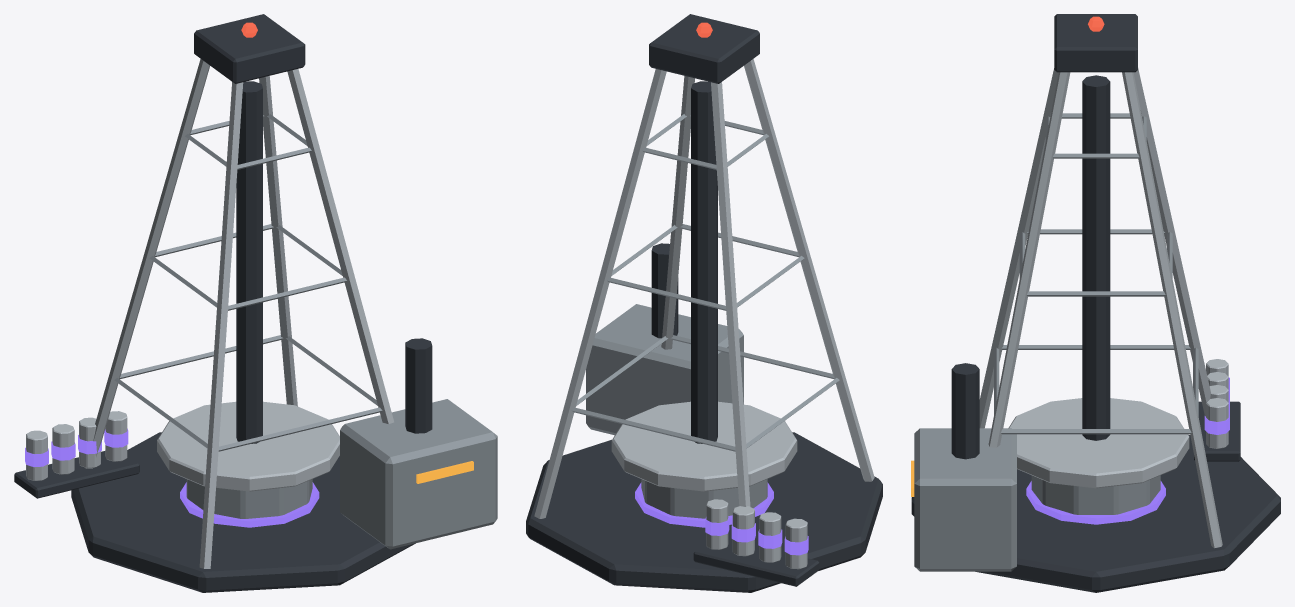
Rendered from exo-deepmine.glb.
3 renders of one model, left to right at view 1: azimuth 30°, elevation 25°; view 2: azimuth 150°, elevation 25°; view 3: azimuth 270°, elevation 25°, orthographic.
Parts seen in each view (by area): view 1: body; view 2: body; view 3: body.
Boxes of the visible parts, bbox=[...] form: body: bbox=[14, 14, 497, 592]; body: bbox=[526, 14, 882, 592]; body: bbox=[911, 14, 1280, 592].
Bounding box in the file's own units: 8.1 × 11.83 × 7.93.
